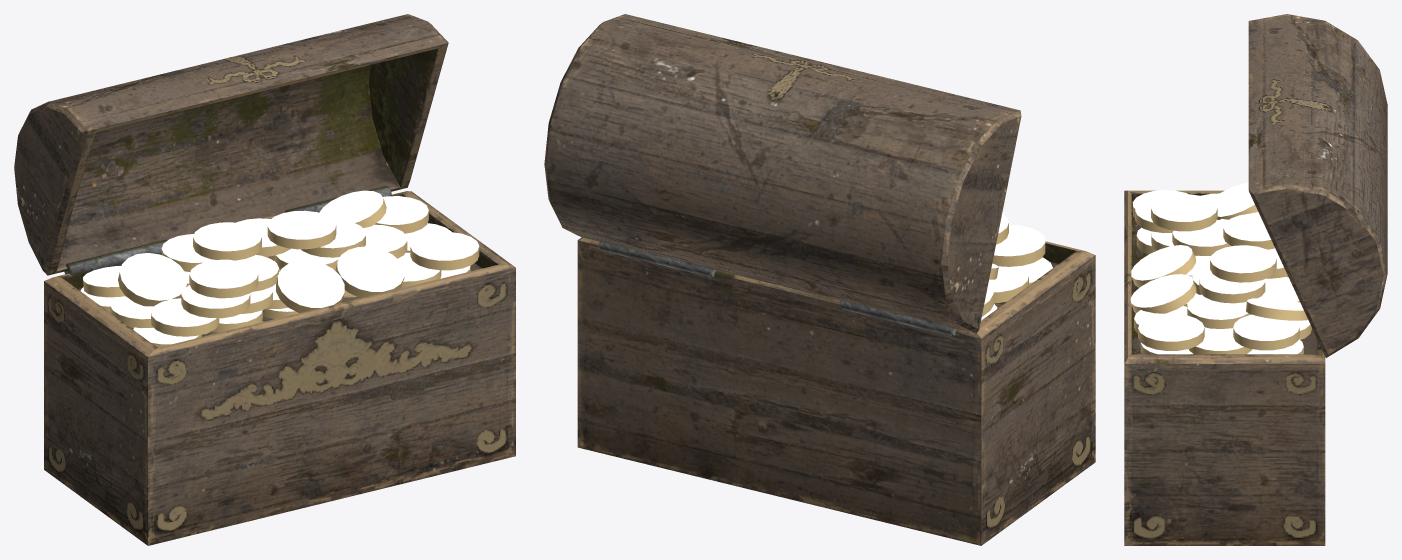
Rendered from SM_Prop_Wood_Crates_A1_Gold.fbx.
3 renders of one model, left to right at view 1: azimuth 30°, elevation 25°; view 2: azimuth 150°, elevation 25°; view 3: azimuth 270°, elevation 25°, orthographic. The views are drawn at different scales.
Parts seen in each view (by area): view 1: SM_Prop_Wood_Crates_A1_Gold_LOD0; view 2: SM_Prop_Wood_Crates_A1_Gold_LOD0; view 3: SM_Prop_Wood_Crates_A1_Gold_LOD0.
Boxes of the visible parts, x1,y1,x2,y2 form: SM_Prop_Wood_Crates_A1_Gold_LOD0: [14, 14, 515, 545]; SM_Prop_Wood_Crates_A1_Gold_LOD0: [544, 14, 1095, 545]; SM_Prop_Wood_Crates_A1_Gold_LOD0: [1124, 14, 1387, 545].
Size of the model in its own units: 120 by 76.8 by 116.
Materials: 1 (1 with a texture image).
